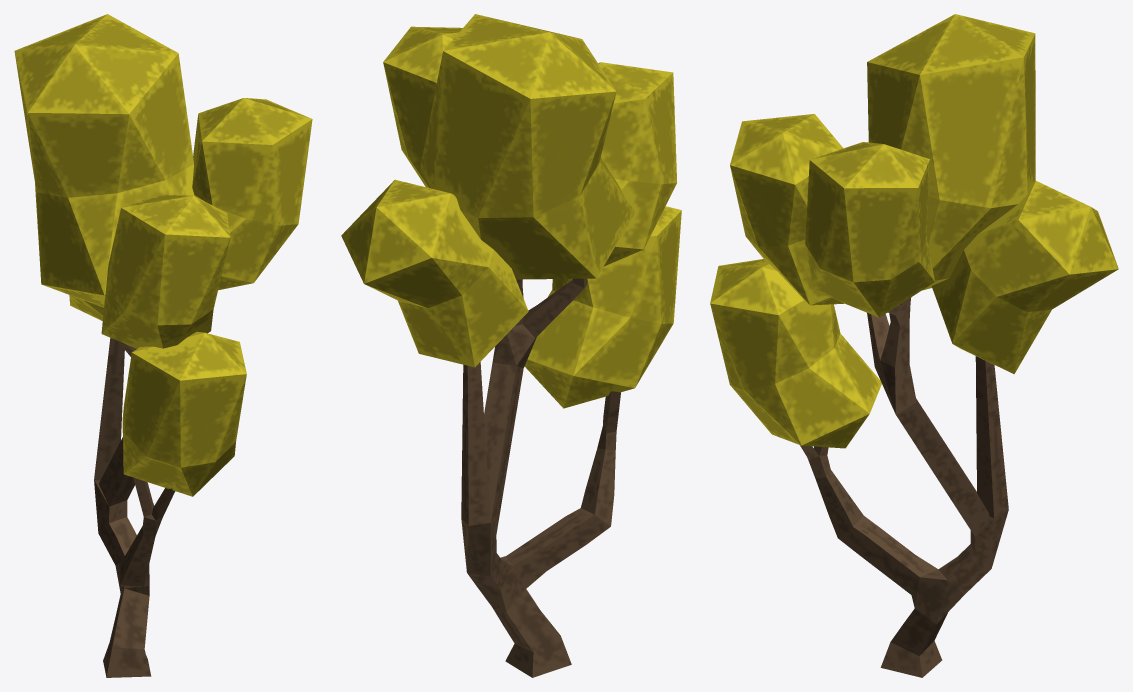
The model's file is SM_Tree_Forest_01.fbx.
3 views of the same model, side by side, from view 1: azimuth 30°, elevation 25°; view 2: azimuth 150°, elevation 25°; view 3: azimuth 270°, elevation 25° (orthographic). The views are drawn at different scales.
Parts seen in each view (by area): view 1: Cube.040; view 2: Cube.040; view 3: Cube.040.
Part boxes in pixels (<box>): Cube.040: <box>14,14,312,677</box>; Cube.040: <box>341,14,681,677</box>; Cube.040: <box>710,14,1118,677</box>.
Bounding box in the file's own units: 116 × 285 × 166.
1 material, 1 textured.
